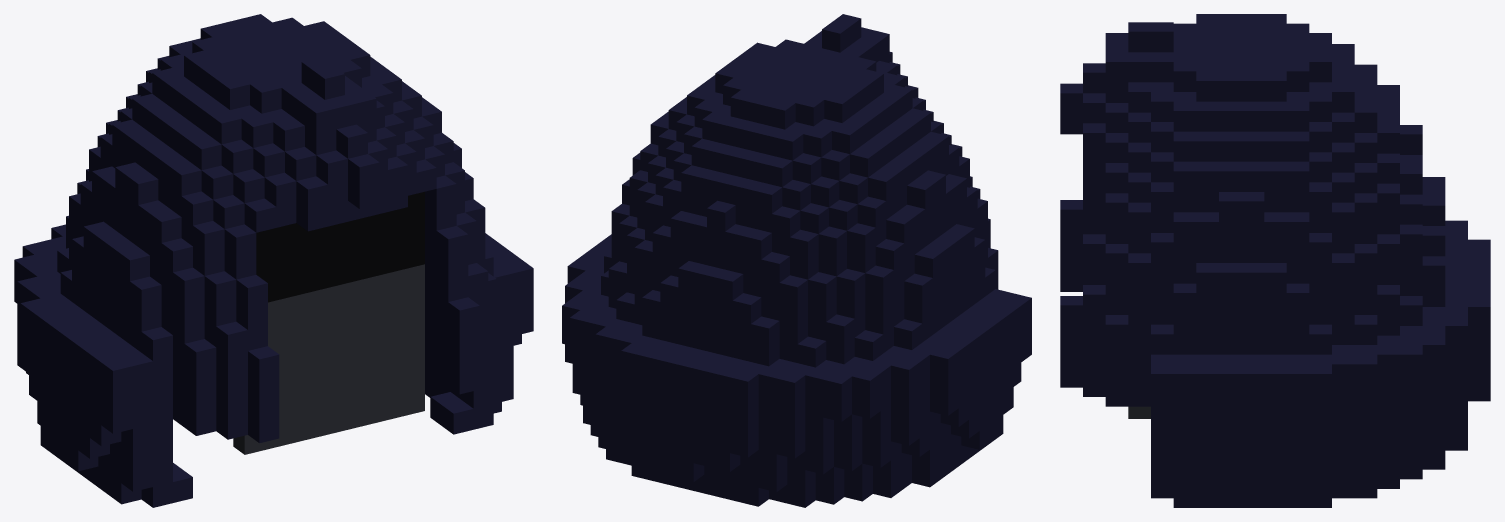
Rendered from mystic_rare_helmet_lod1.glb.
The picture shows the model from 3 angles, left to right: view 1: azimuth 30°, elevation 25°; view 2: azimuth 150°, elevation 25°; view 3: azimuth 270°, elevation 25°; orthographic projection. The views are drawn at different scales.
Parts seen in each view (by area): view 1: mystic_rare_helmet_lod1; view 2: mystic_rare_helmet_lod1; view 3: mystic_rare_helmet_lod1.
Boxes of the visible parts, x1,y1,x2,y2 form: mystic_rare_helmet_lod1: (14, 14, 533, 507); mystic_rare_helmet_lod1: (562, 14, 1031, 507); mystic_rare_helmet_lod1: (1060, 14, 1490, 507).
Size of the model in its own units: 0.504 by 0.456 by 0.456.
